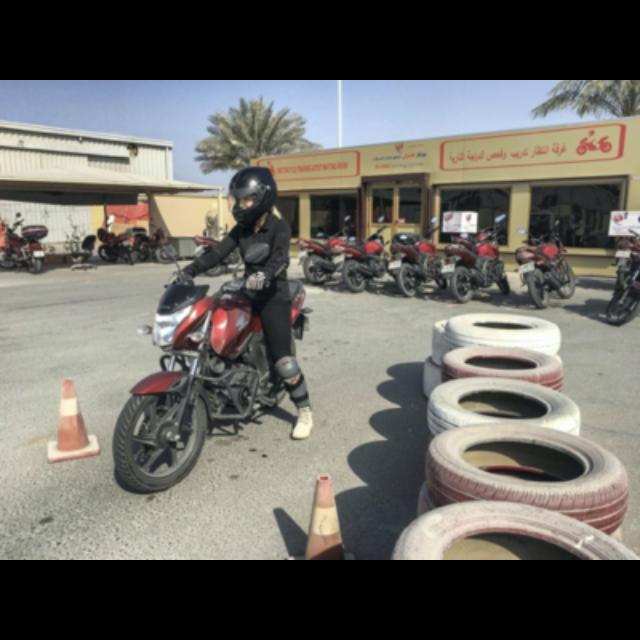With Helmet: (217, 162, 283, 234)
